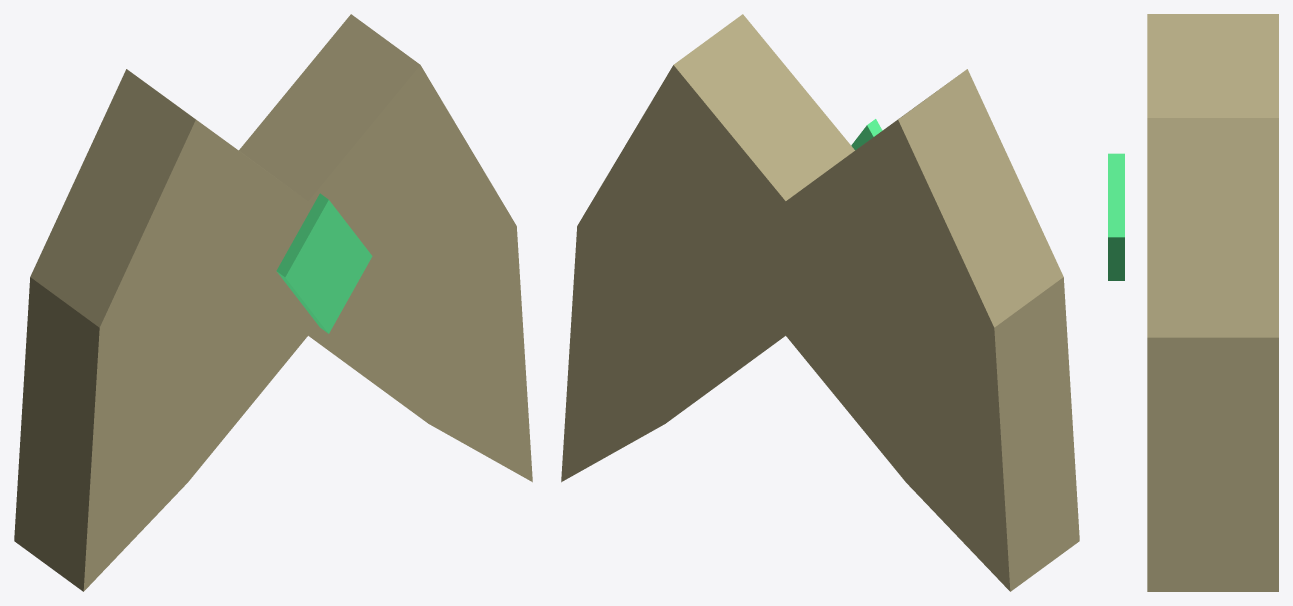
Rendered from heavenly_arch.obj.
3 views of the same model, side by side, from view 1: azimuth 30°, elevation 25°; view 2: azimuth 150°, elevation 25°; view 3: azimuth 270°, elevation 25° (orthographic). The views are drawn at different scales.
Visible parts, largest first — view 1: heavenly_arch, heavenly_arch_edge, arch_core, arch_core_edge; view 2: heavenly_arch, heavenly_arch_edge; view 3: heavenly_arch_edge, arch_core_edge.
Boxes of the visible parts, x1,y1,x2,y2 form: heavenly_arch: (83, 65, 532, 591); heavenly_arch_edge: (14, 14, 420, 591); arch_core: (285, 200, 372, 333); arch_core_edge: (276, 193, 328, 333); heavenly_arch: (561, 65, 1010, 591); heavenly_arch_edge: (673, 14, 1079, 591); heavenly_arch_edge: (1147, 14, 1278, 591); arch_core_edge: (1108, 153, 1124, 280).
Size of the model in its own units: 0.56 by 0.53 by 0.1946.
